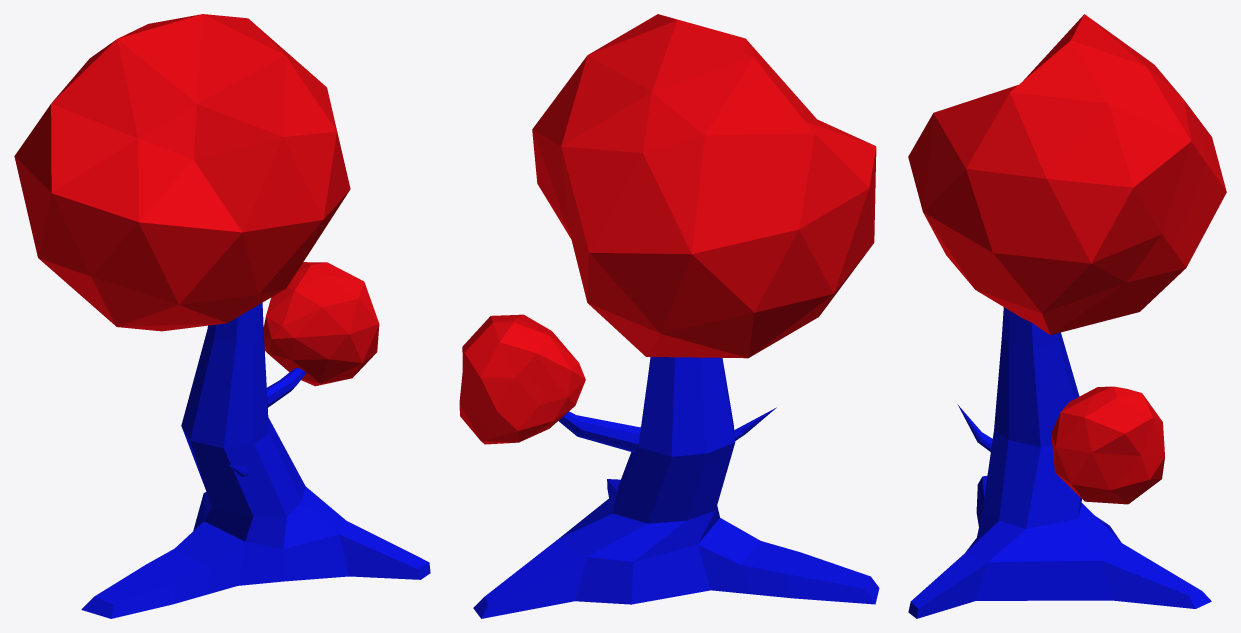
The model's file is SM_Broadleaf4.fbx.
3 renders of one model, left to right at view 1: azimuth 30°, elevation 25°; view 2: azimuth 150°, elevation 25°; view 3: azimuth 270°, elevation 25°, orthographic. The views are drawn at different scales.
Visible parts, largest first — view 1: SM_Broadleaf4; view 2: SM_Broadleaf4; view 3: SM_Broadleaf4.
Boxes of the visible parts, x1=… form: SM_Broadleaf4: x1=14, y1=14, x2=430, y2=618; SM_Broadleaf4: x1=459, y1=14, x2=879, y2=618; SM_Broadleaf4: x1=908, y1=14, x2=1226, y2=618.
Bounding box in the file's own units: 175 × 261 × 148.
